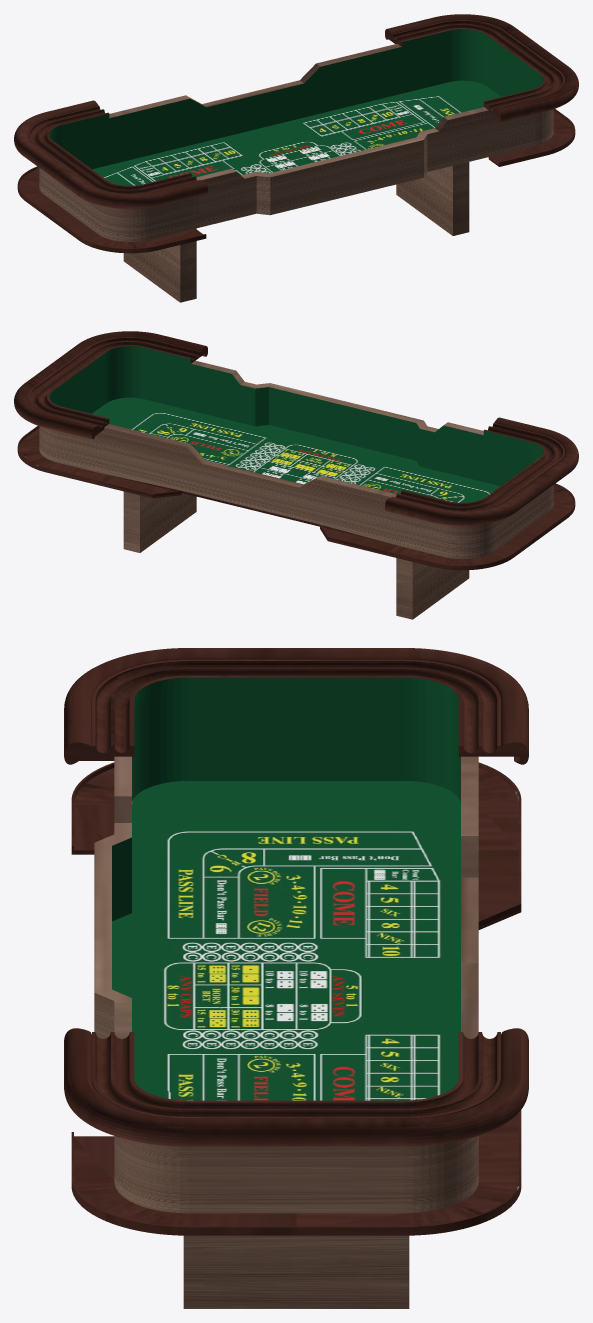
File: MesaDados.obj
The picture shows the model from 3 angles, top to bottom: view 1: azimuth 30°, elevation 25°; view 2: azimuth 150°, elevation 25°; view 3: azimuth 270°, elevation 25°; orthographic projection. The views are drawn at different scales.
Visible parts, largest first — view 1: Craps_Table; view 2: Craps_Table; view 3: Craps_Table.
Part boxes in pixels (x1,y1,x2,y2): Craps_Table: [14, 14, 578, 302]; Craps_Table: [14, 331, 578, 619]; Craps_Table: [64, 648, 528, 1308].
Bounding box in the file's own units: 17.55 × 4.8 × 7.15.
